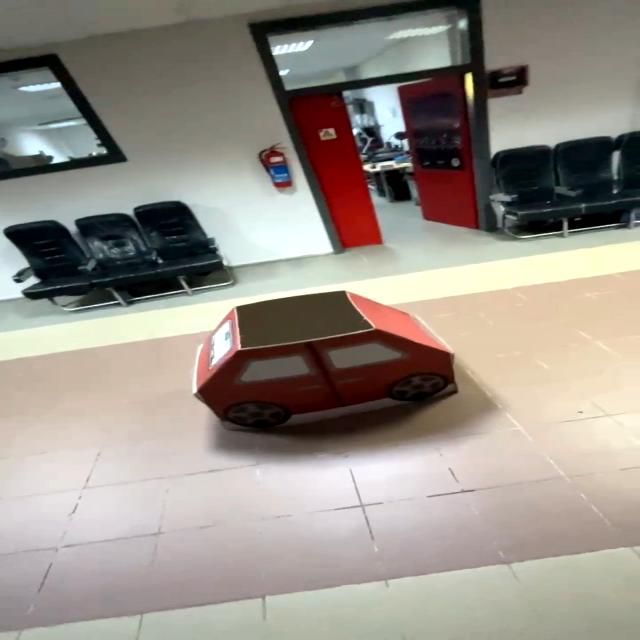red_car: (128, 279, 513, 455)
